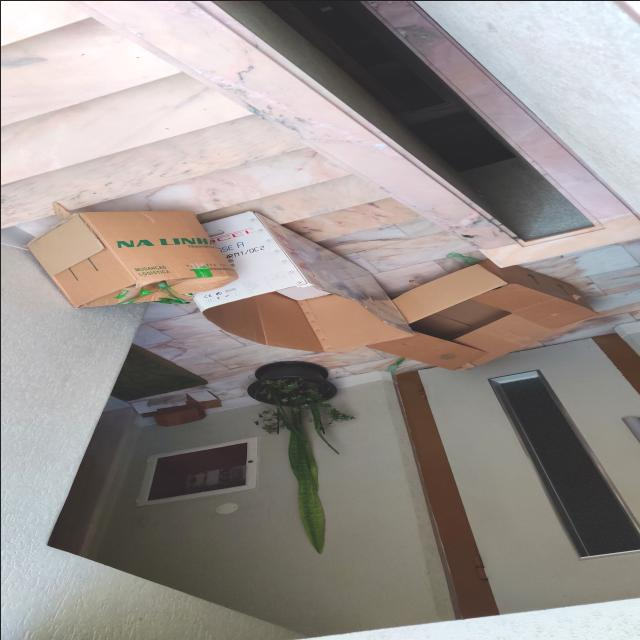Corrugated carton: (190, 210, 414, 352), (365, 257, 598, 369), (25, 201, 237, 307), (129, 390, 221, 426)
